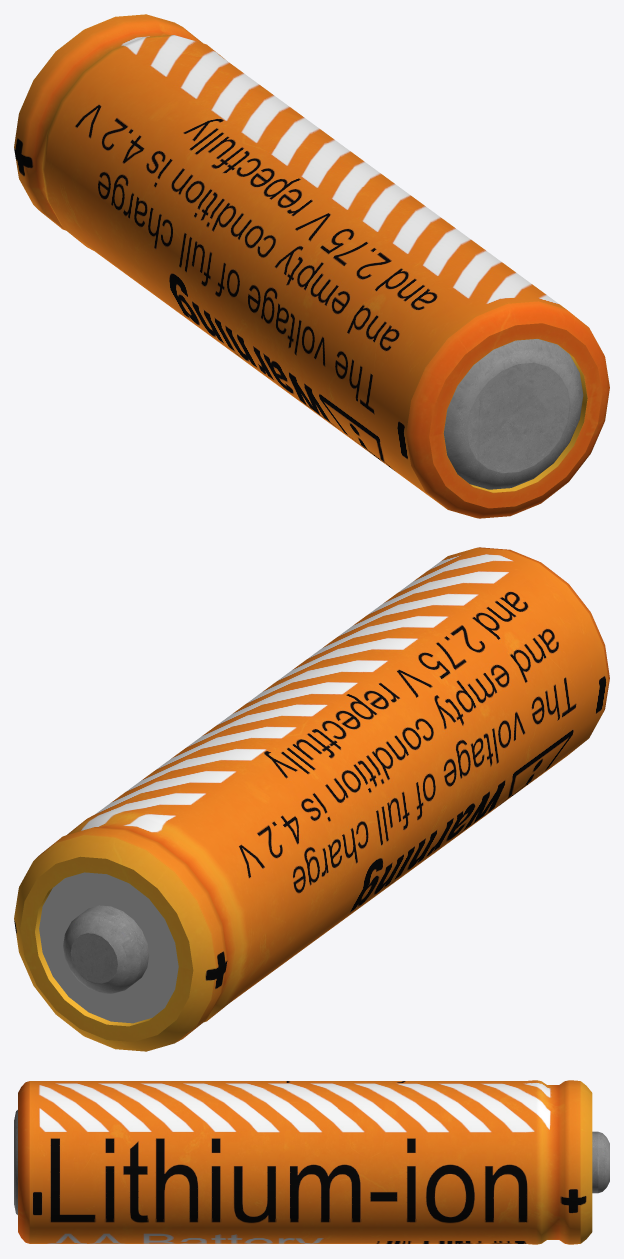
The model's file is aa_battery.glb.
The picture shows the model from 3 angles, top to bottom: view 1: azimuth 30°, elevation 25°; view 2: azimuth 150°, elevation 25°; view 3: azimuth 270°, elevation 25°; orthographic projection. The views are drawn at different scales.
Parts seen in each view (by area): view 1: pCylinder1; view 2: pCylinder1; view 3: pCylinder1.
Part boxes in pixels (x1,y1,x2,y2): pCylinder1: (14, 14, 609, 518); pCylinder1: (14, 547, 609, 1051); pCylinder1: (14, 1080, 609, 1244).
Size of the model in its own units: 14.15 by 14.15 by 50.85.
Materials: 1 (1 with a texture image).
